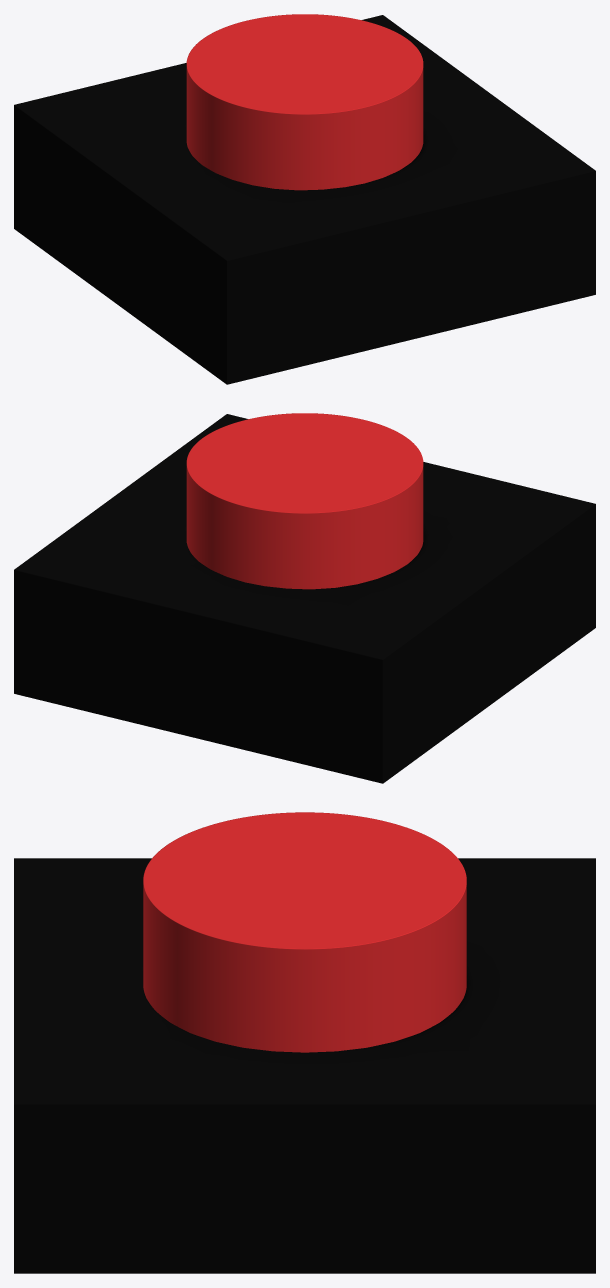
The model's file is button.glb.
The picture shows the model from 3 angles, top to bottom: view 1: azimuth 30°, elevation 25°; view 2: azimuth 150°, elevation 25°; view 3: azimuth 270°, elevation 25°; orthographic projection. The views are drawn at different scales.
Parts seen in each view (by area): view 1: Plane, Cylinder; view 2: Plane, Cylinder; view 3: Plane, Cylinder.
Boxes of the visible parts, x1,y1,x2,y2 form: Plane: (14,15,595,384); Cylinder: (186,14,423,190); Plane: (14,414,595,783); Cylinder: (186,413,423,589); Plane: (14,858,595,1273); Cylinder: (143,812,466,1052).
Size of the model in its own units: 0.1743 by 0.0892 by 0.1743.
